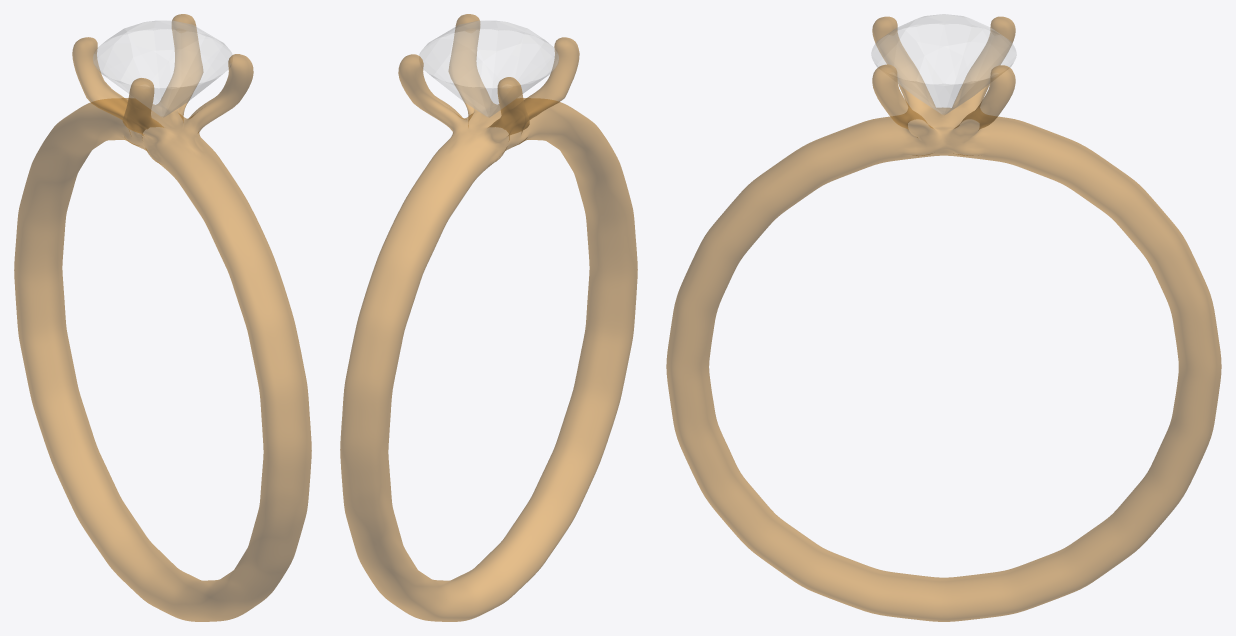
3 views of the same model, side by side, from view 1: azimuth 30°, elevation 25°; view 2: azimuth 150°, elevation 25°; view 3: azimuth 270°, elevation 25° (orthographic). The views are drawn at different scales.
Parts seen in each view (by area): view 1: VR011; view 2: VR011; view 3: VR011.
Part boxes in pixels (left/top/right/bottom): VR011: left=14, top=14, right=311, bottom=621; VR011: left=340, top=14, right=637, bottom=621; VR011: left=666, top=14, right=1221, bottom=621.
Bounding box in the file's own units: 0.6111 × 2.73 × 2.34.
